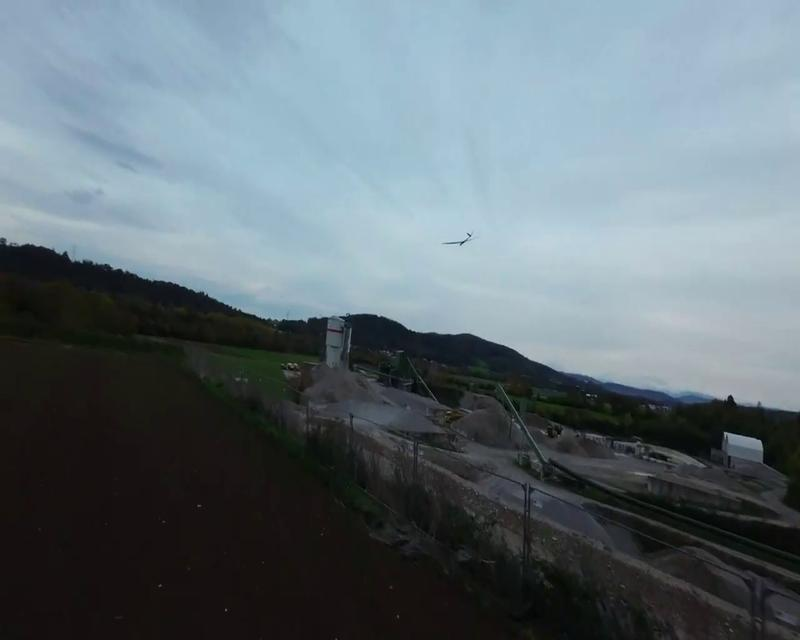UAV: (442, 231, 481, 246)
